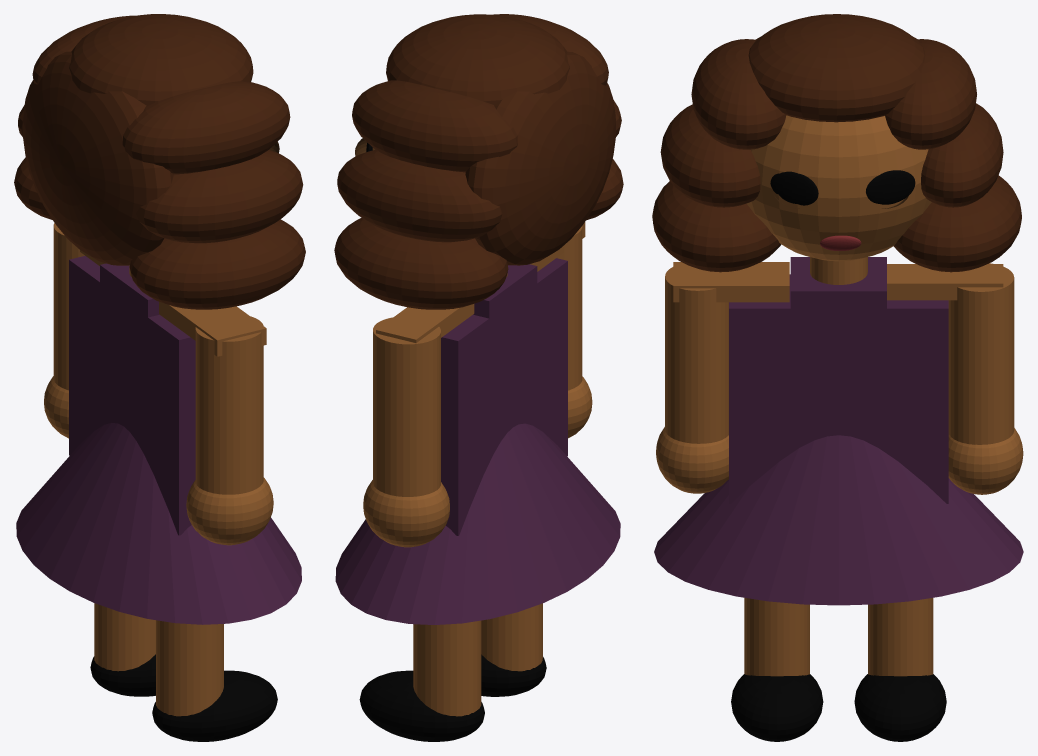
Rendered from Rebecca.fbx.
3 renders of one model, left to right at view 1: azimuth 30°, elevation 25°; view 2: azimuth 150°, elevation 25°; view 3: azimuth 270°, elevation 25°, orthographic.
Visible parts, largest first — view 1: Sphere.012, Cube, Sphere.015, Sphere.018, Sphere.019, Sphere.014; view 2: Sphere.012, Cube, Sphere.014, Sphere.019, Sphere.018, Sphere.015; view 3: Cube, Sphere.012, Sphere.013, Sphere.014, Sphere.015, Sphere.018, Sphere.019, Cylinder.
Boxes of the visible parts, box(x1,y1,x2,y2) form: Sphere.012: box(14, 14, 305, 309); Cube: box(16, 250, 301, 624); Sphere.015: box(186, 316, 273, 545); Sphere.018: box(152, 620, 277, 741); Sphere.019: box(90, 603, 155, 696); Sphere.014: box(44, 223, 84, 438); Sphere.012: box(334, 14, 623, 309); Cube: box(335, 222, 620, 624); Sphere.014: box(363, 317, 449, 547); Sphere.019: box(359, 620, 484, 741); Sphere.018: box(481, 603, 546, 696); Sphere.015: box(557, 226, 592, 438); Cube: box(654, 257, 1023, 605); Sphere.012: box(652, 14, 1021, 272); Sphere.013: box(746, 115, 931, 261); Sphere.014: box(948, 263, 1023, 494); Sphere.015: box(656, 267, 728, 493); Sphere.018: box(731, 597, 823, 741); Sphere.019: box(854, 598, 946, 741); Cylinder: box(810, 257, 867, 284).
Size of the model in its own units: 232 by 697 by 341.
